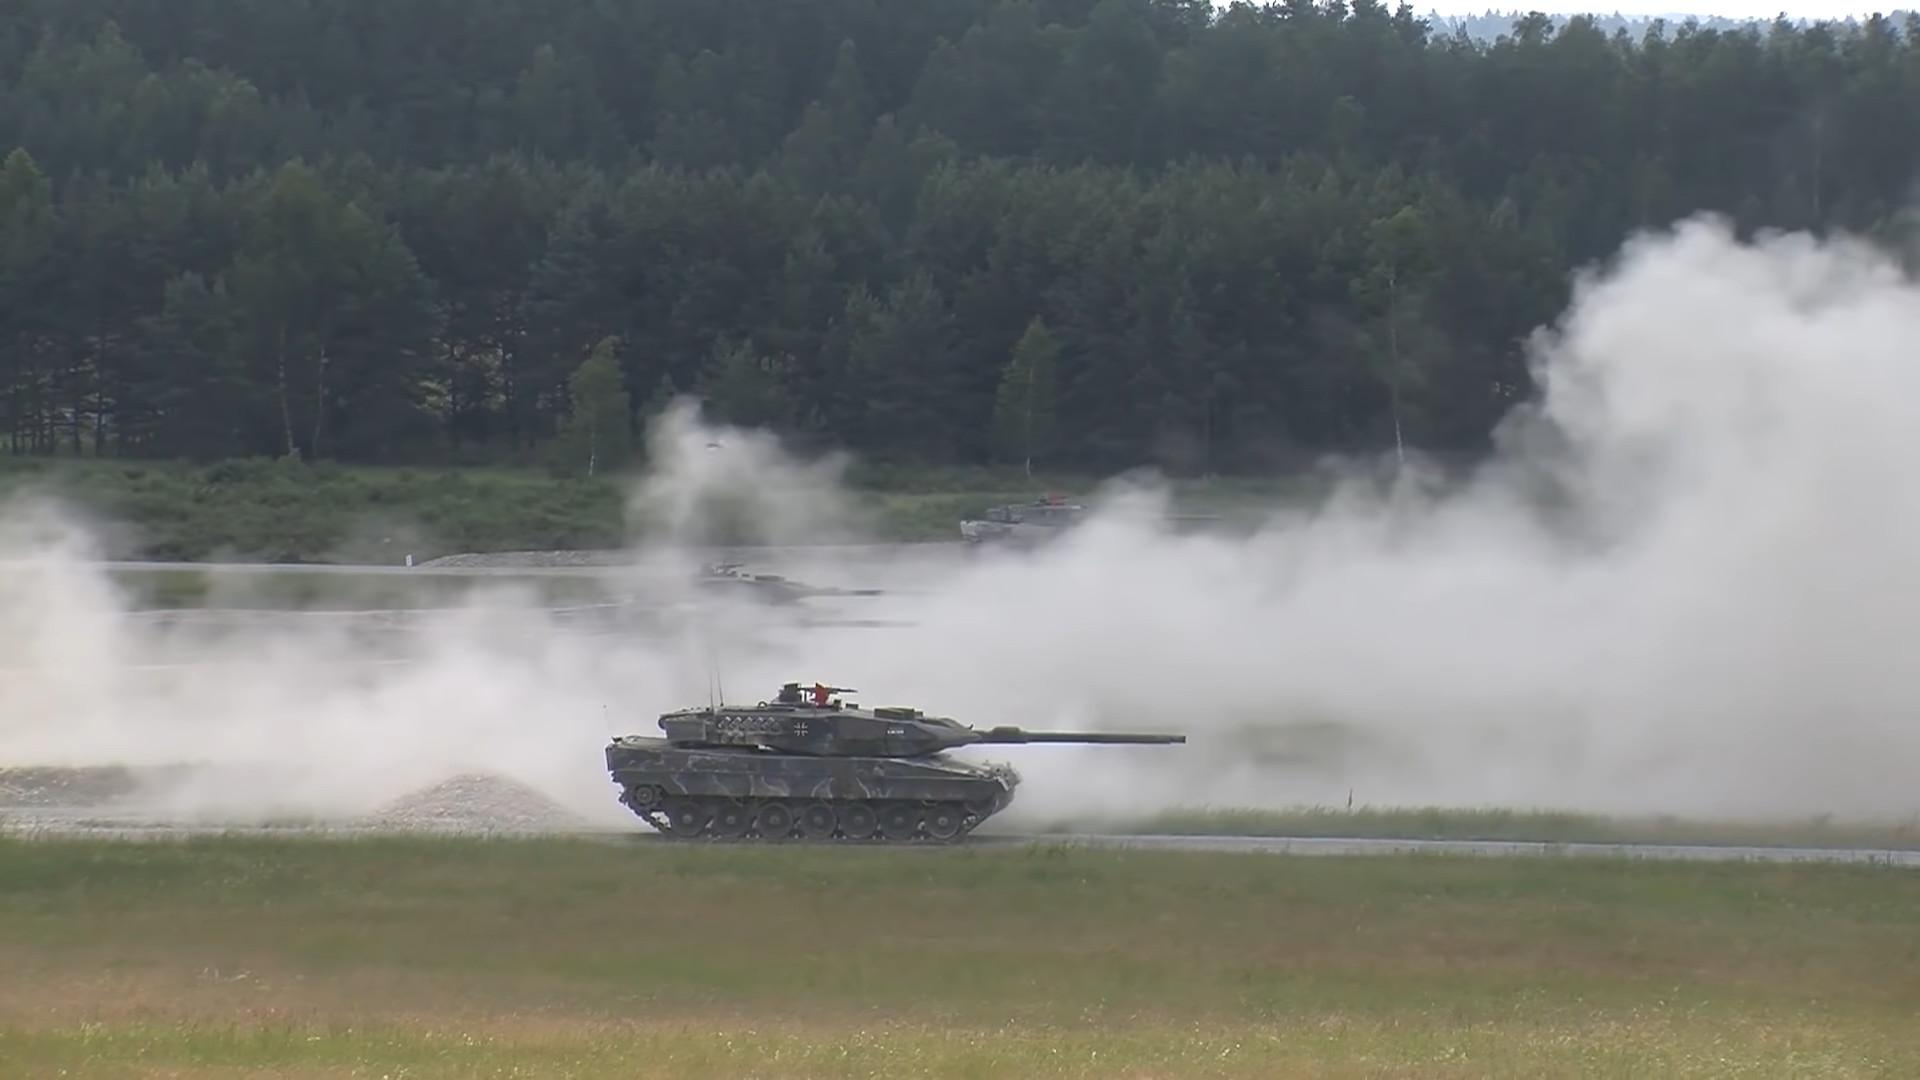tank: (595, 680, 1191, 844), (547, 595, 923, 640), (960, 505, 1225, 553), (694, 574, 927, 601)
